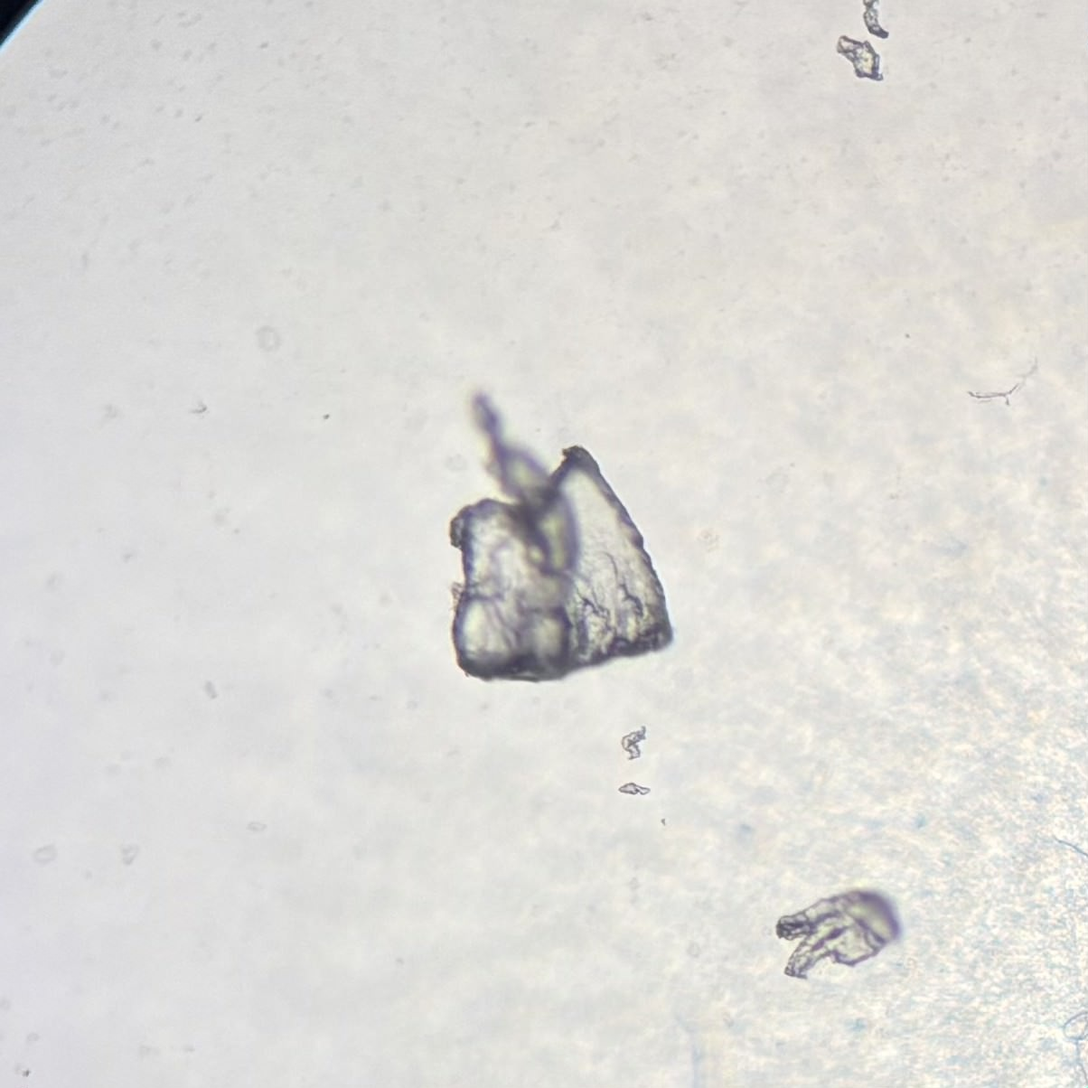microplastic: (449, 383, 675, 679), (767, 883, 909, 971)
